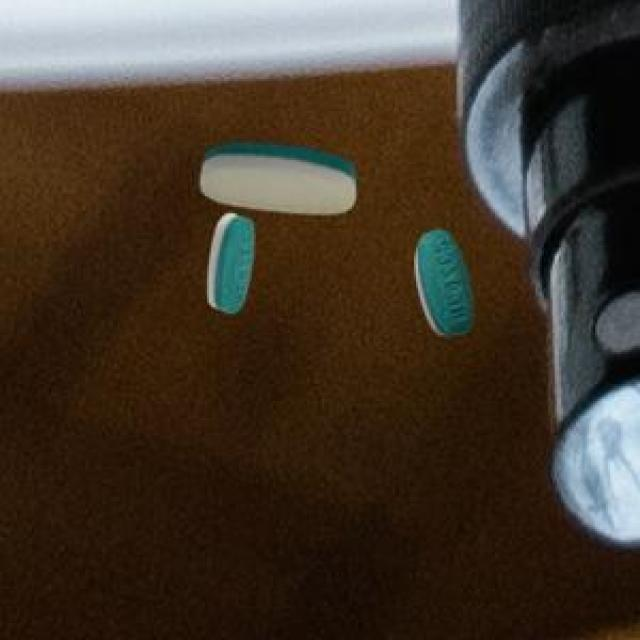Neozep: (180, 136, 366, 324), (407, 221, 485, 345)
